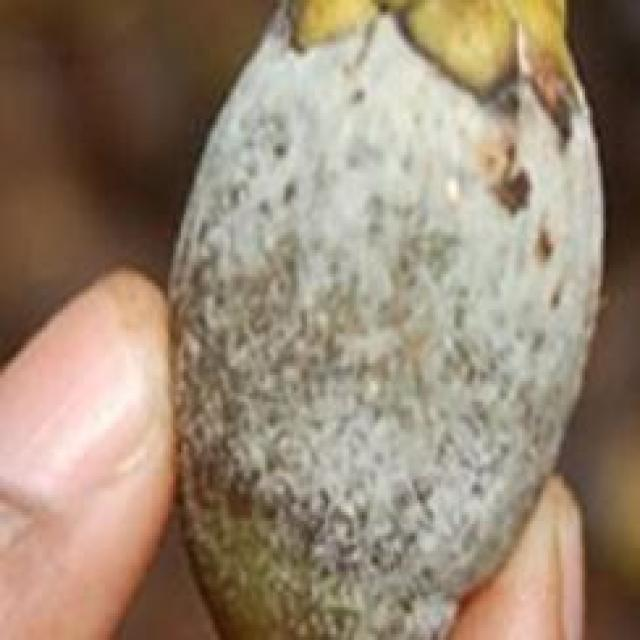damaged: (168, 0, 606, 637)
